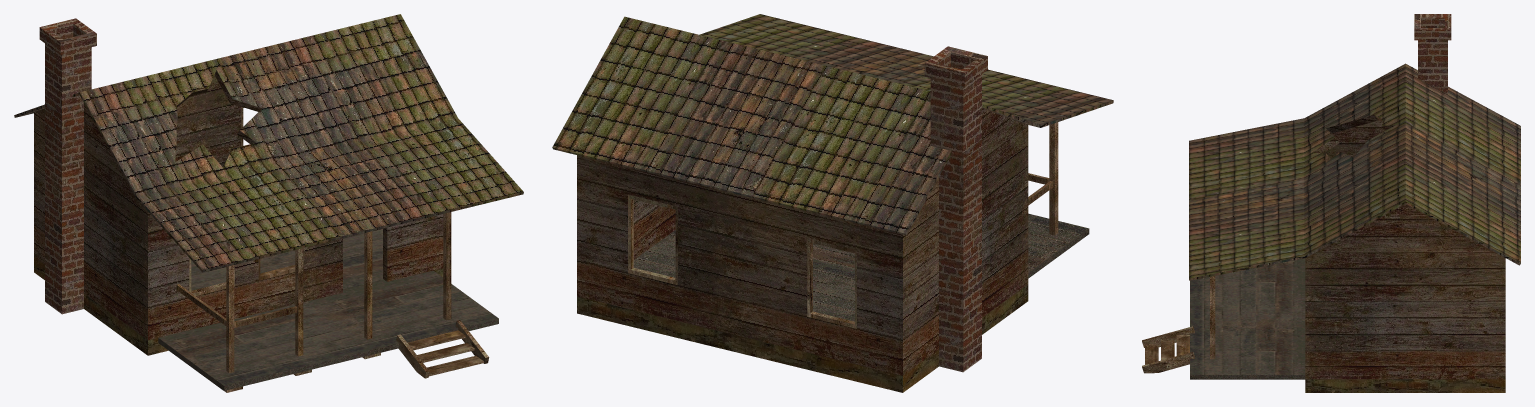
The model's file is house.glb.
The picture shows the model from 3 angles, left to right: view 1: azimuth 30°, elevation 25°; view 2: azimuth 150°, elevation 25°; view 3: azimuth 270°, elevation 25°; orthographic projection. The views are drawn at different scales.
Visible parts, largest first — view 1: House; view 2: House; view 3: House.
Part boxes in pixels (<box>): House: <box>14,14,523,392</box>; House: <box>552,14,1113,392</box>; House: <box>1142,14,1520,392</box>.
Size of the model in its own units: 6.79 by 5.33 by 7.56.
6 materials, 6 textured.
